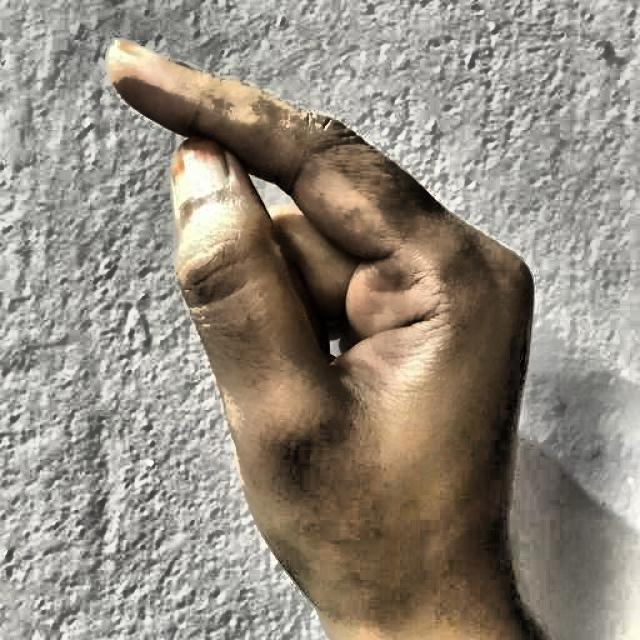Tha: (82, 25, 569, 638)
